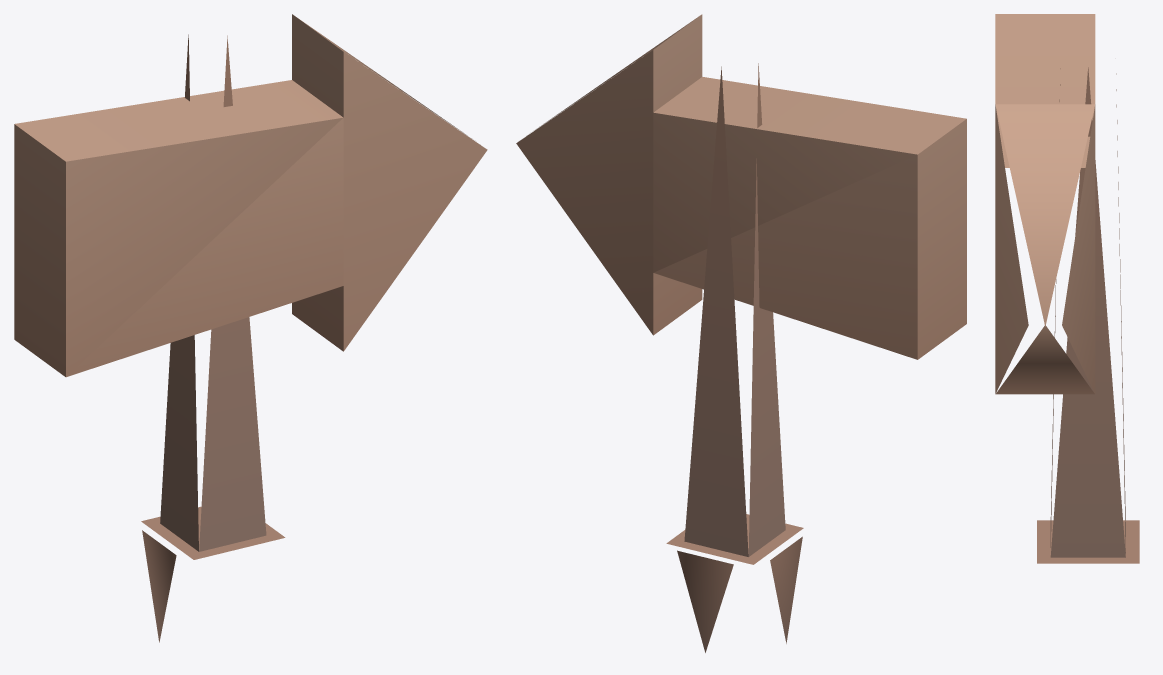
Rendered from sign.glb.
3 views of the same model, side by side, from view 1: azimuth 30°, elevation 25°; view 2: azimuth 150°, elevation 25°; view 3: azimuth 270°, elevation 25° (orthographic). The views are drawn at different scales.
Parts seen in each view (by area): view 1: sign; view 2: sign; view 3: sign.
Part boxes in pixels (x1=…): sign: x1=14, y1=14, x2=487, y2=642; sign: x1=516, y1=14, x2=966, y2=652; sign: x1=995, y1=14, x2=1139, y2=563.
Bounding box in the file's own units: 0.4572 × 0.6005 × 0.1423.
